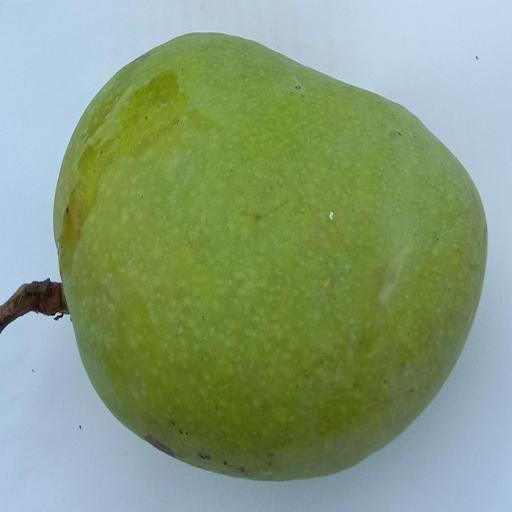mango-unripe: (26, 17, 512, 484)
